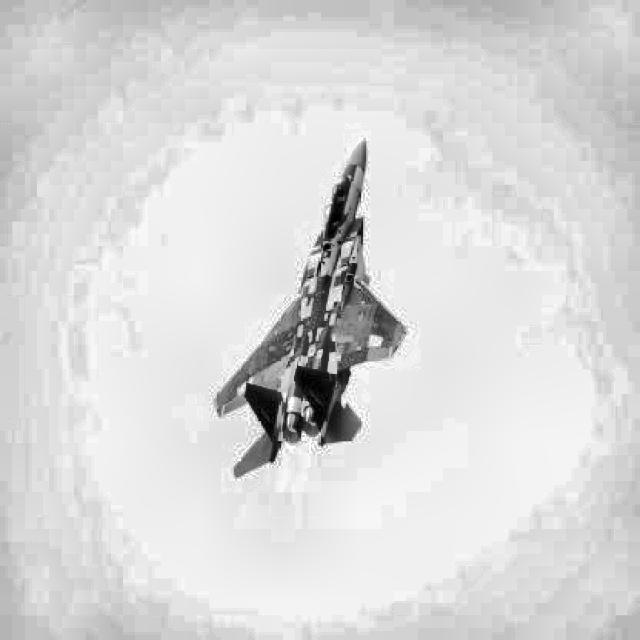F15: (213, 138, 409, 478)
